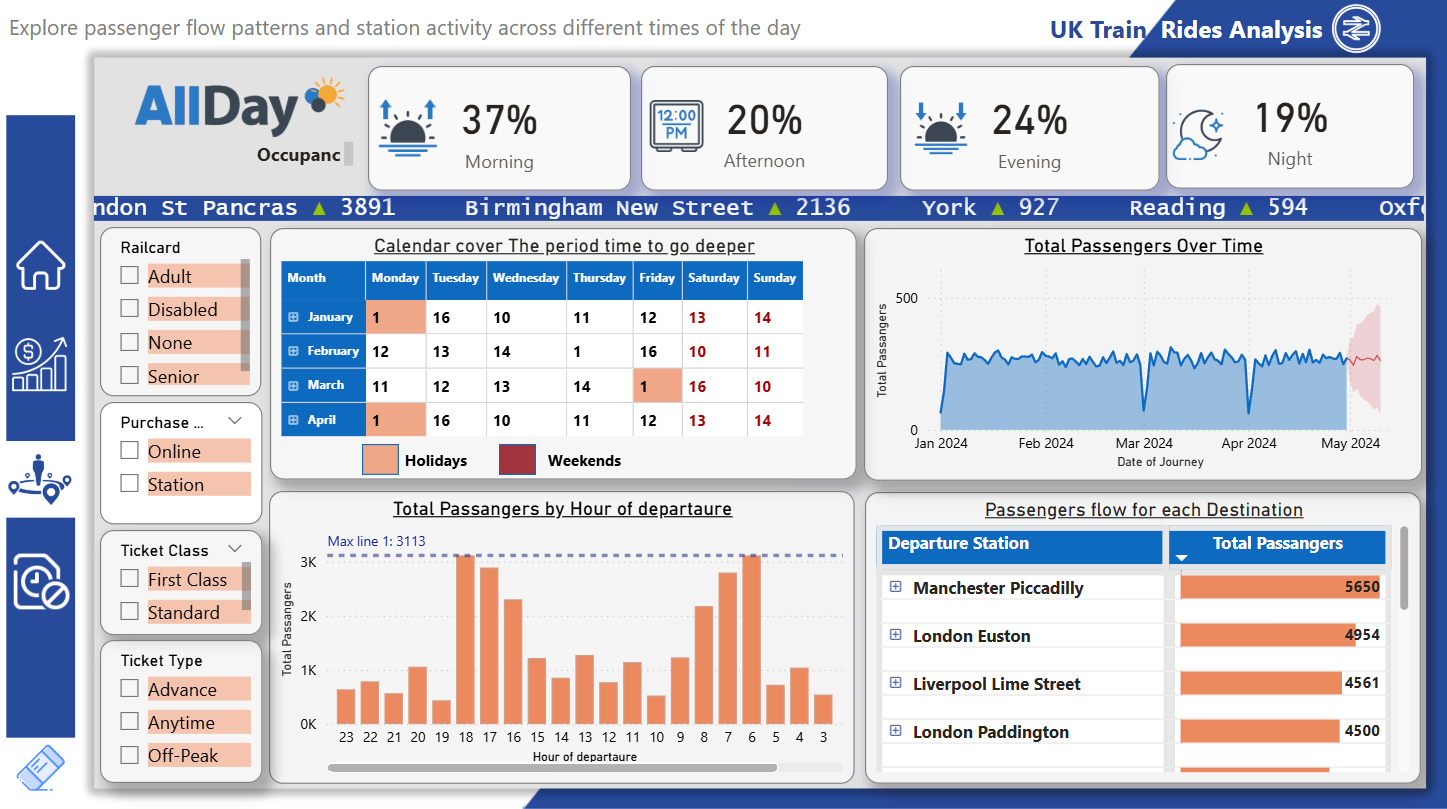

This screenshot's page, from the dashboard's own definition file:
{"tool":"powerbi","page":{"name":"Flow Analysis","canvas":[1280,720],"ordinal":3},"visuals":[{"type":"image","box":[0,0,1280,720],"z":0},{"type":"textbox","box":[916.5,12.8,308.1,40.5],"z":1000},{"type":"ScrollingTextVisual1448795304508","fields":{"Measure Deviation":["All Measures.Total Passangers"],"Category":["railway.Departure Station"]},"box":[80.4,174,1173.3,32.3],"z":2000},{"type":"pivotTable","title":"Passengers flow for each Destination","fields":{"Rows":["railway.Departure Station","railway.Arrival Destination"],"Values":["All Measures.Total Passangers"]},"box":[759.8,438,486.2,255.1],"z":3000},{"type":"pivotTable","title":"Calendar  cover The period time to go deeper","fields":{"Rows":["Date Table.Month","Date Table.Week of Month","Date Table.Year"],"Values":["Min(Date Table.Day Text)"],"Columns":["Date Table.Day Name"]},"box":[239.6,207,513.1,219.7],"z":4000},{"type":"clusteredColumnChart","fields":{"Category":["railway.Hour of departaure"],"Y":["All Measures.Total Passangers"]},"box":[239,437.5,511.6,255.8],"z":5000},{"type":"slicer","fields":{"Values":["railway.Railcard"]},"box":[90.9,206.4,141.2,148.1],"z":6000},{"type":"slicer","fields":{"Values":["railway.Purchase Type"]},"box":[90.9,359.3,141.6,106.7],"z":7000},{"type":"slicer","fields":{"Values":["railway.Ticket Class"]},"box":[90.9,471.3,141.6,91.8],"z":8000},{"type":"slicer","fields":{"Values":["railway.Ticket Type"]},"box":[90.9,567.4,141.6,125],"z":9000},{"type":"image","box":[1158.8,0,58.9,64.1],"z":10000},{"type":"image","box":[13.2,652.7,51.8,51.8],"z":11000},{"type":"image","box":[9.6,213.3,58.6,53.3],"z":12000},{"type":"lineChart","title":"Total Passengers Over Time","fields":{"Category":["railway.Date of Journey.Variation.Date Hierarchy.Year"],"Y":["All Measures.Total Passangers"]},"box":[759,207.3,487.6,220.5],"z":13000},{"type":"image","box":[6.1,297.3,64.7,57.7],"z":14000},{"type":"image","box":[7.9,485.2,64.7,62.1],"z":15000},{"type":"textbox","box":[6.1,13.1,873.4,57.7],"z":16000},{"type":"image","box":[5.2,393.4,65.6,67.3],"z":17000},{"type":"card","fields":{"Values":["All Measures.Morning"]},"box":[324.9,65.2,230.1,108.6],"z":18000},{"type":"card","fields":{"Values":["All Measures.Afternoon"]},"box":[564,65.2,216.3,108.6],"z":19000},{"type":"card","fields":{"Values":["All Measures.Evening"]},"box":[790.1,65.2,227.2,108.6],"z":20000},{"type":"card","fields":{"Values":["All Measures.Night"]},"box":[1023.2,64.2,217.3,108.6],"z":21000},{"type":"image","box":[329.9,85.9,61.2,67.2],"z":22000},{"type":"image","box":[1023.2,98.8,56.3,54.3],"z":23000},{"type":"image","box":[798,85.9,56.3,67.2],"z":24000},{"type":"image","box":[104.7,53.3,212.3,99.8],"z":25000},{"type":"textbox","box":[220.2,126.4,96.8,40.5],"z":26000},{"type":"image","box":[566.9,86.9,57.3,62.2],"z":27000},{"type":"textbox","box":[352.3,396.2,76.4,50.1],"z":28000},{"type":"shape","box":[319.8,396.2,32.5,27.2],"z":29000},{"type":"shape","box":[440.1,396.2,32.5,27.2],"z":30000},{"type":"textbox","box":[477,396.2,78.2,50.1],"z":31000}]}

Visuals, with their boxes on the page's 1280x720 design canvas (x1, y1, x2, y2). These are canvas units, not pixel positions in the 1447x809 screenshot, which may show the page scaled, cropped or inside an application window:
image: Rect(0, 0, 1280, 720)
textbox: Rect(916, 13, 1225, 53)
ScrollingTextVisual1448795304508 - All Measures.Total Passangers x railway.Departure Station: Rect(80, 174, 1254, 206)
"Passengers flow for each Destination" pivotTable: Rect(760, 438, 1246, 693)
"Calendar  cover The period time to go deeper" pivotTable: Rect(240, 207, 753, 427)
clusteredColumnChart - railway.Hour of departaure x All Measures.Total Passangers: Rect(239, 438, 751, 693)
slicer - railway.Railcard: Rect(91, 206, 232, 354)
slicer - railway.Purchase Type: Rect(91, 359, 232, 466)
slicer - railway.Ticket Class: Rect(91, 471, 232, 563)
slicer - railway.Ticket Type: Rect(91, 567, 232, 692)
image: Rect(1159, 0, 1218, 64)
image: Rect(13, 653, 65, 704)
image: Rect(10, 213, 68, 267)
"Total Passengers Over Time" lineChart: Rect(759, 207, 1247, 428)
image: Rect(6, 297, 71, 355)
image: Rect(8, 485, 73, 547)
textbox: Rect(6, 13, 880, 71)
image: Rect(5, 393, 71, 461)
card - All Measures.Morning: Rect(325, 65, 555, 174)
card - All Measures.Afternoon: Rect(564, 65, 780, 174)
card - All Measures.Evening: Rect(790, 65, 1017, 174)
card - All Measures.Night: Rect(1023, 64, 1240, 173)
image: Rect(330, 86, 391, 153)
image: Rect(1023, 99, 1080, 153)
image: Rect(798, 86, 854, 153)
image: Rect(105, 53, 317, 153)
textbox: Rect(220, 126, 317, 167)
image: Rect(567, 87, 624, 149)
textbox: Rect(352, 396, 429, 446)
shape: Rect(320, 396, 352, 423)
shape: Rect(440, 396, 473, 423)
textbox: Rect(477, 396, 555, 446)
